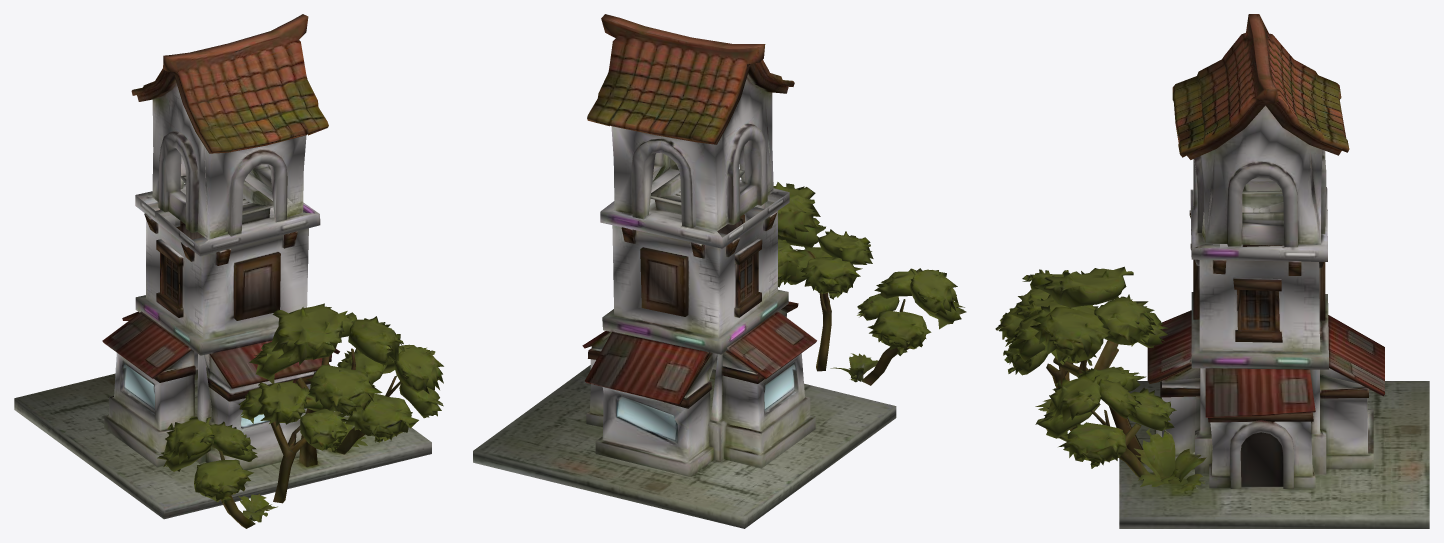
The model's file is lm_turtle_tower.glb.
3 views of the same model, side by side, from view 1: azimuth 30°, elevation 25°; view 2: azimuth 150°, elevation 25°; view 3: azimuth 270°, elevation 25° (orthographic). The views are drawn at different scales.
Visible parts, largest first — view 1: Body; view 2: Body; view 3: Body.
Part boxes in pixels (x1,y1,x2,y2): Body: [14, 14, 443, 528]; Body: [473, 14, 966, 528]; Body: [995, 14, 1429, 528].
Bounding box in the file's own units: 9.32 × 12 × 11.44.
1 material, 1 textured.
